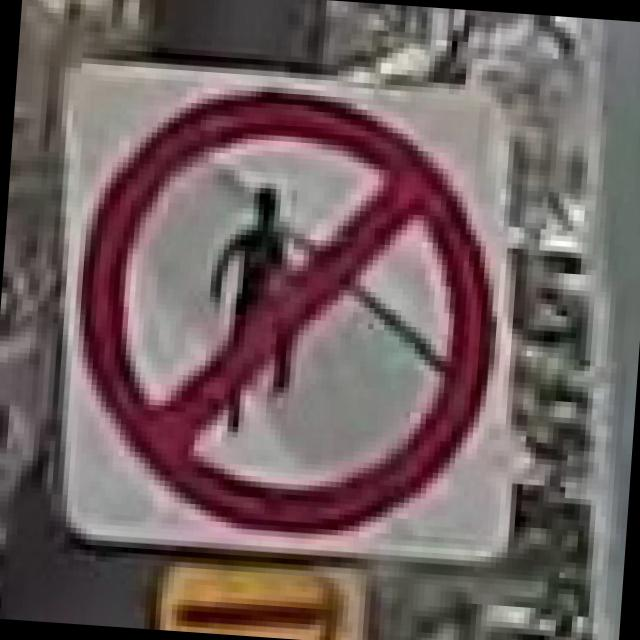nojaywalking_sign: (27, 46, 550, 574)
